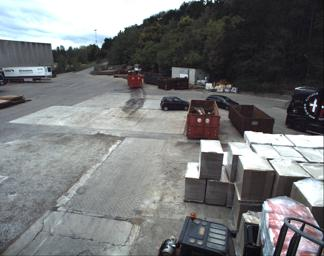rockwool_batts: (259, 198, 322, 255)
